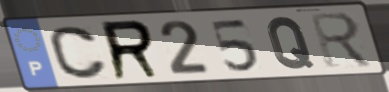2: (158, 19, 214, 78)
5: (208, 17, 261, 74)
C: (46, 24, 110, 81)
Q: (265, 15, 318, 72)
R: (99, 18, 164, 83), (306, 11, 377, 70)
